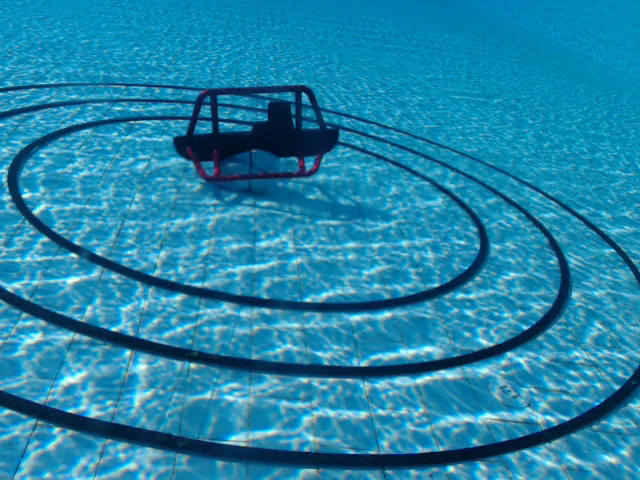submarine: (172, 83, 341, 185)
